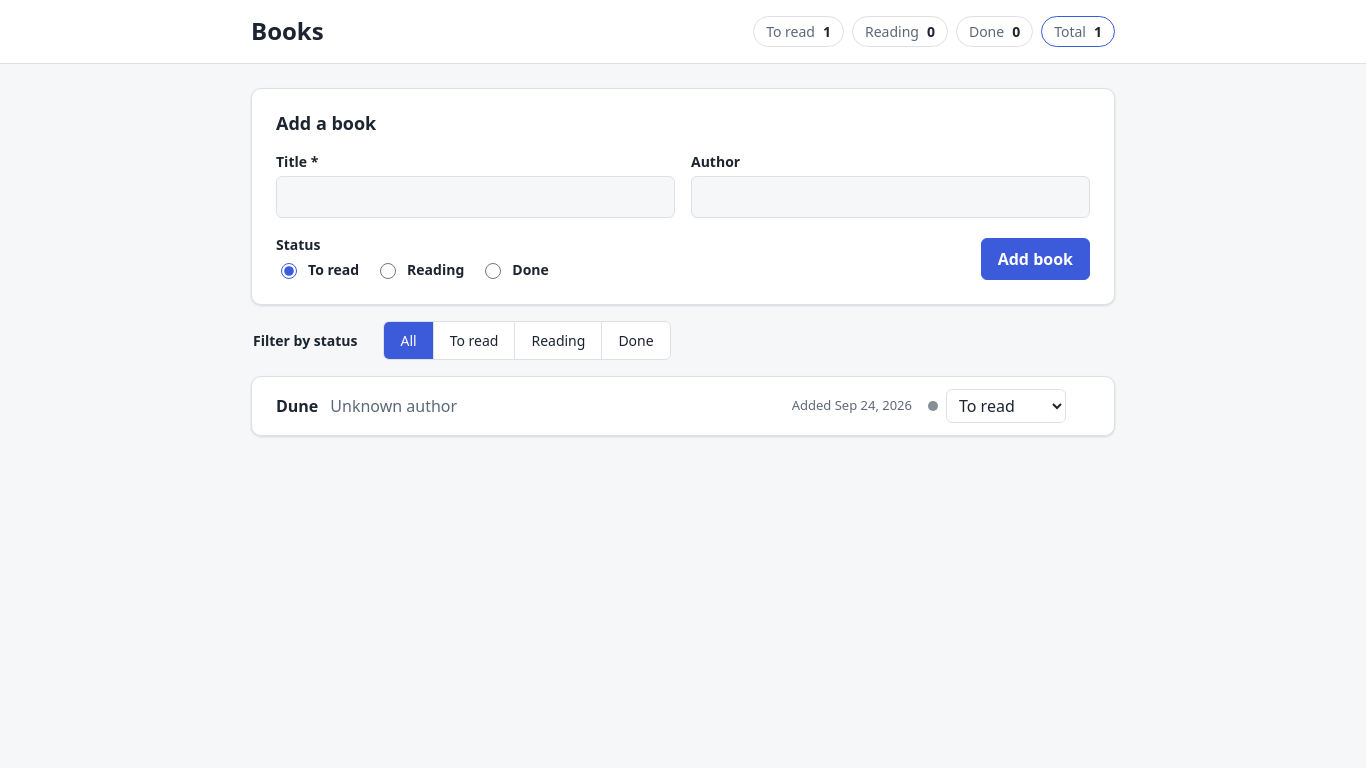
Test: API feedback toasts › toasts when a status change is rate limited
Select "Done" in the dropdown named "Status for Dune" at {"x": 1006, "y": 406}, box [946, 389, 1066, 423]
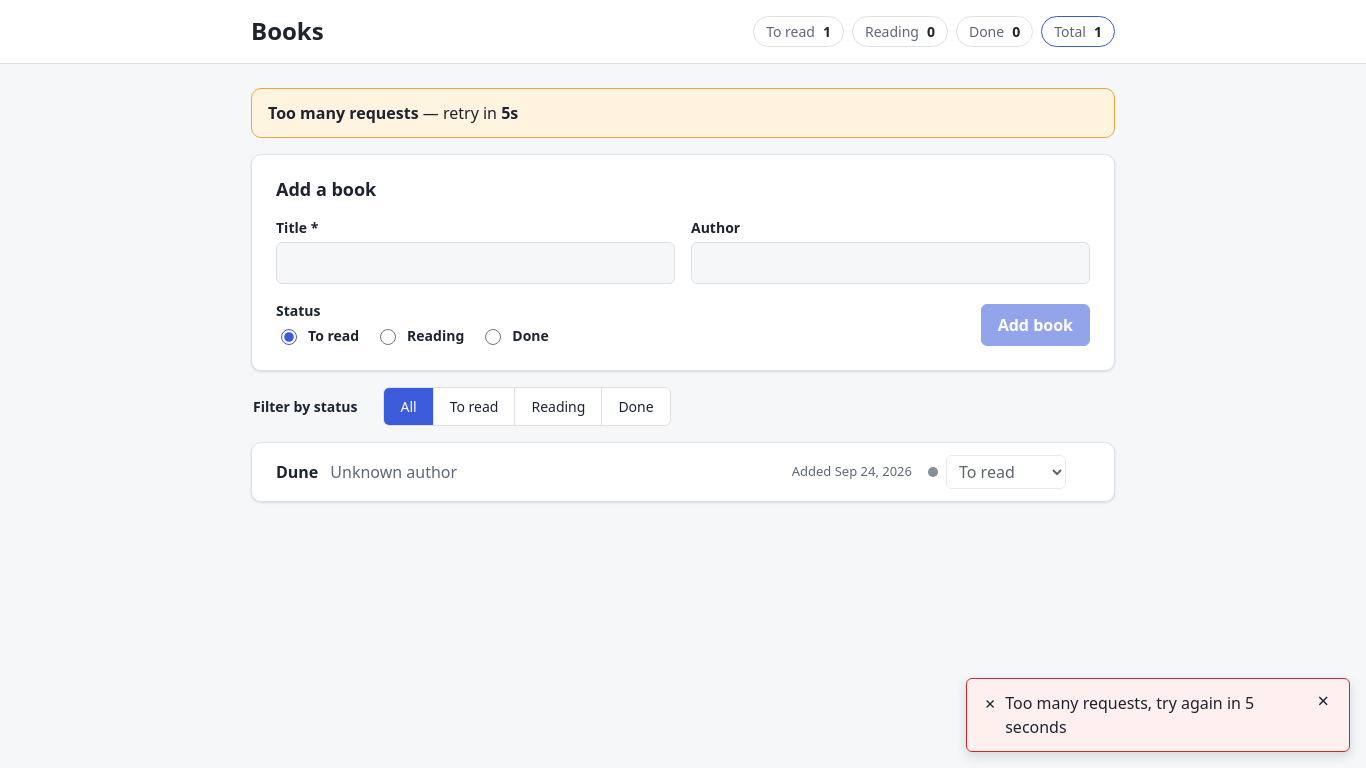
Now the list item "✗ Too many requests, try again in 5 seconds ×" is shown, box [966, 678, 1350, 752]
